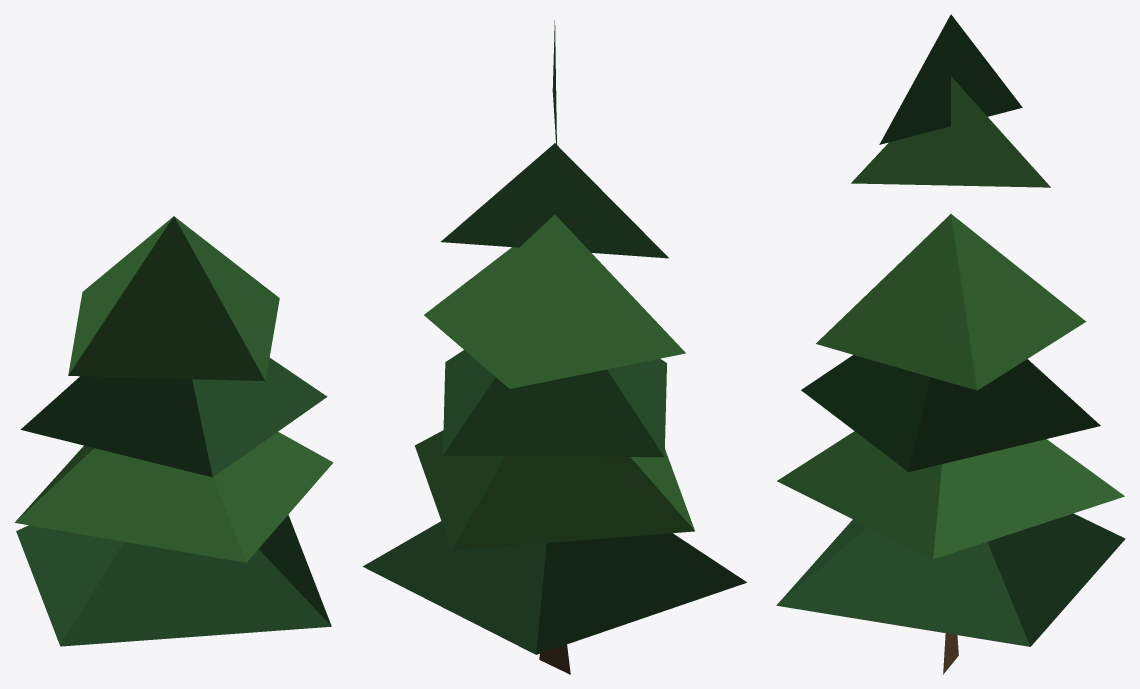
The model's file is tree_pine_3_lod2.glb.
3 views of the same model, side by side, from view 1: azimuth 30°, elevation 25°; view 2: azimuth 150°, elevation 25°; view 3: azimuth 270°, elevation 25° (orthographic).
Parts seen in each view (by area): view 1: tree_pine_3_lod2; view 2: tree_pine_3_lod2; view 3: tree_pine_3_lod2.
Boxes of the visible parts, left/top/right/bottom form: tree_pine_3_lod2: left=14, top=216, right=333, bottom=646; tree_pine_3_lod2: left=363, top=20, right=746, bottom=674; tree_pine_3_lod2: left=776, top=14, right=1125, bottom=674.
Bounding box in the file's own units: 4.61 × 9.42 × 4.58.
